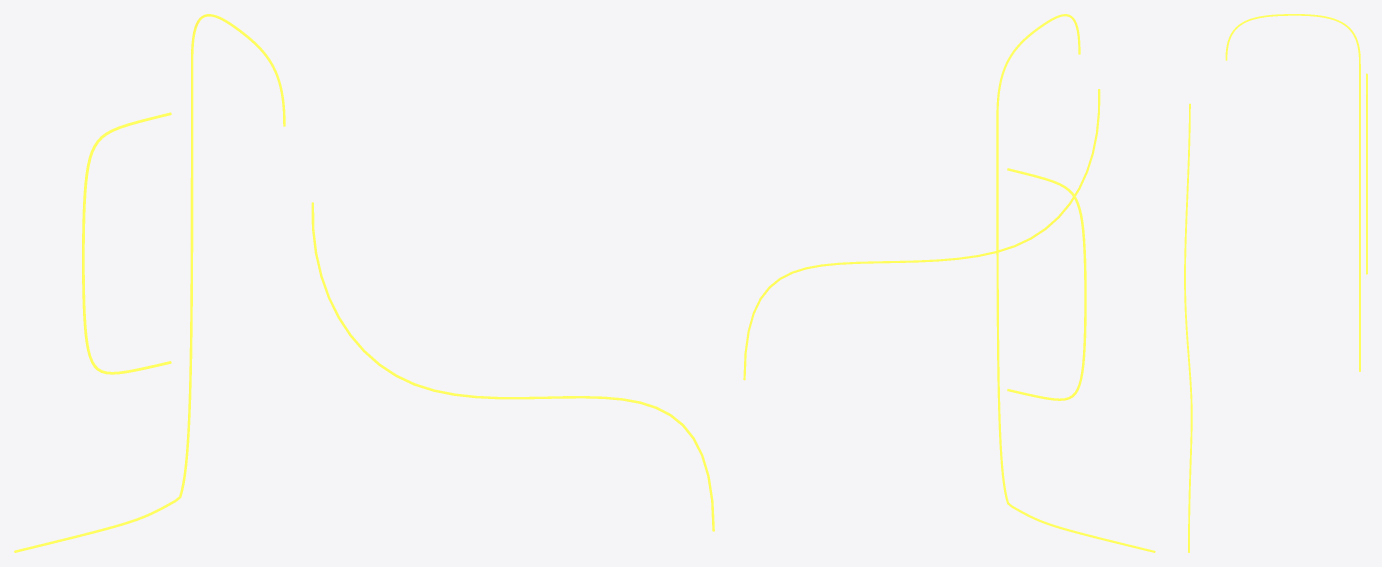
Rendered from AL_pressure valve.fbx.
The picture shows the model from 3 angles, left to right: view 1: azimuth 30°, elevation 25°; view 2: azimuth 150°, elevation 25°; view 3: azimuth 270°, elevation 25°; orthographic projection. The views are drawn at different scales.
Parts seen in each view (by area): view 1: selang.002; view 2: selang.002; view 3: selang.002.
Boxes of the visible parts, x1=… form: selang.002: x1=14, y1=14, x2=714, y2=552; selang.002: x1=743, y1=14, x2=1155, y2=552; selang.002: x1=1184, y1=14, x2=1367, y2=552.
Bounding box in the file's own units: 67.49 × 60.77 × 25.55.
